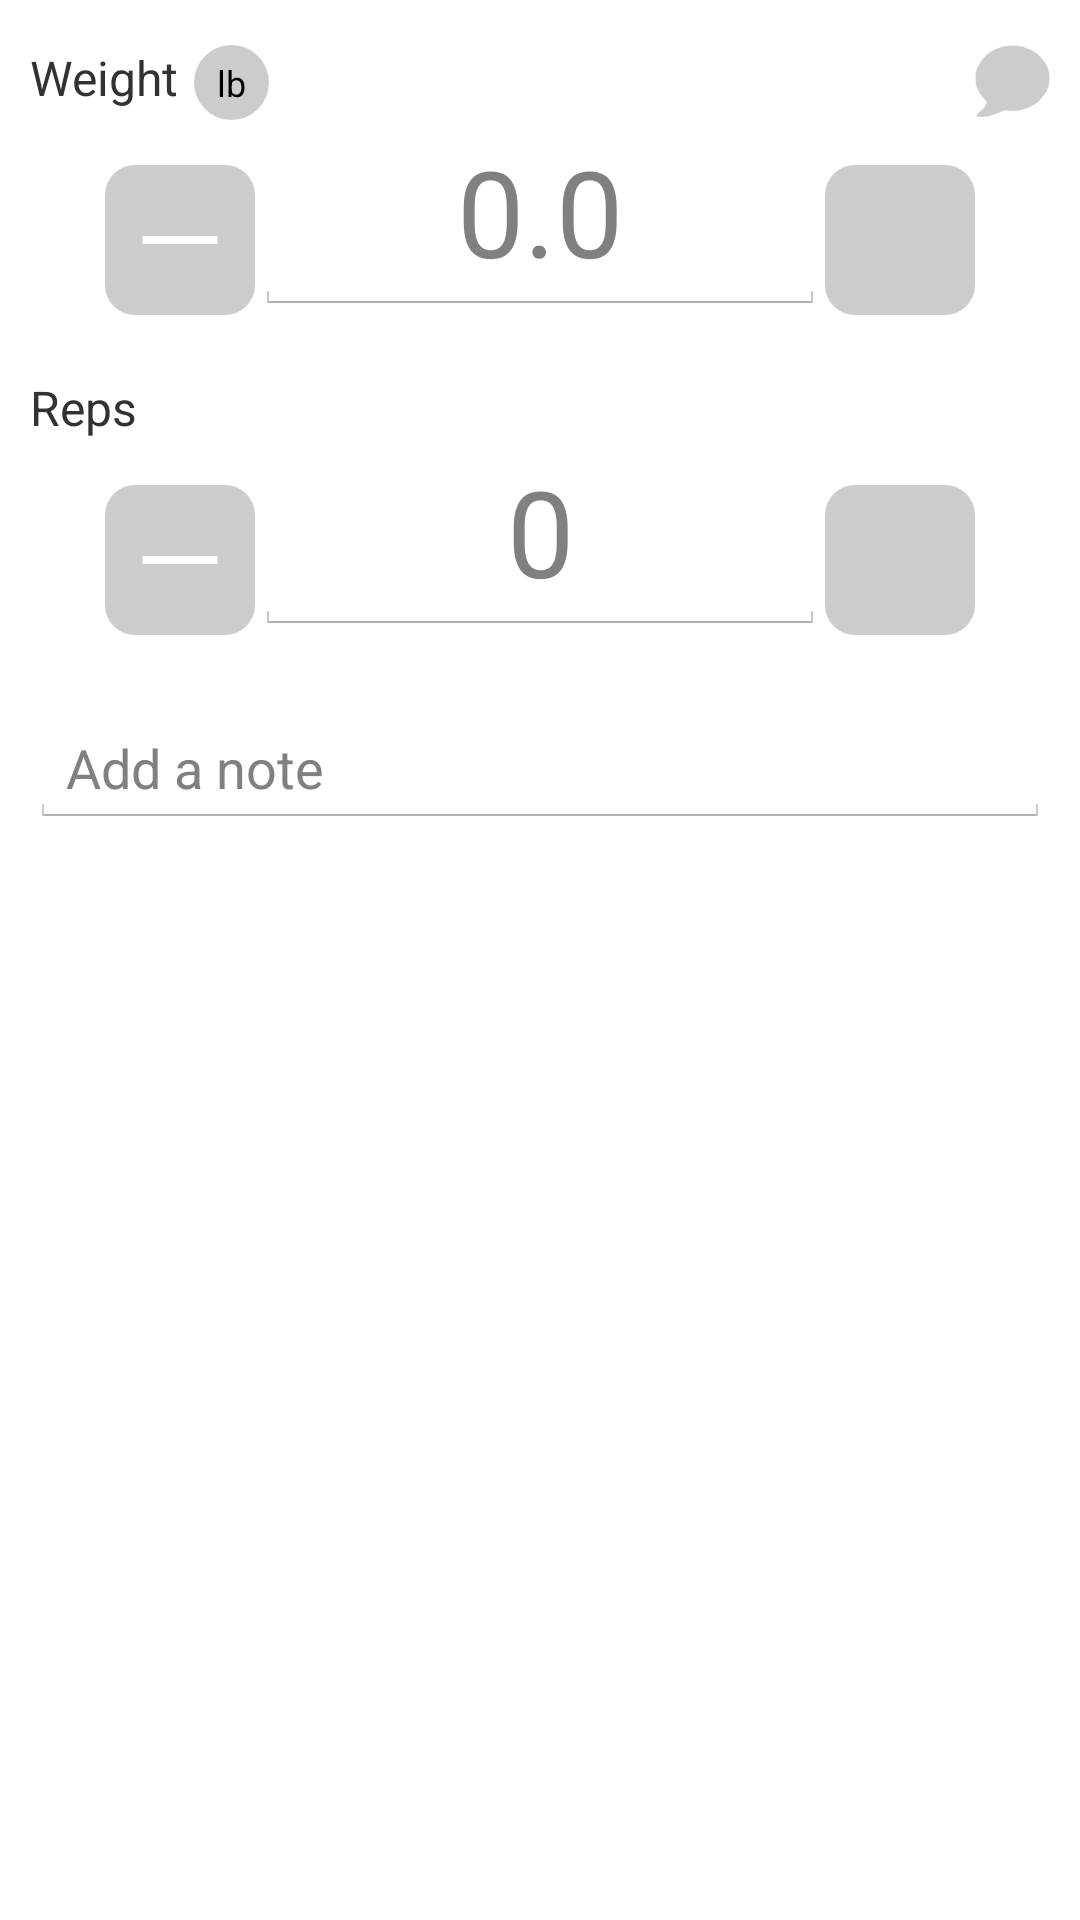

Icons on this 1080*1920 Android screen, each with the point to tap as point (x, y):
dec: point (180, 240), point (180, 560)
